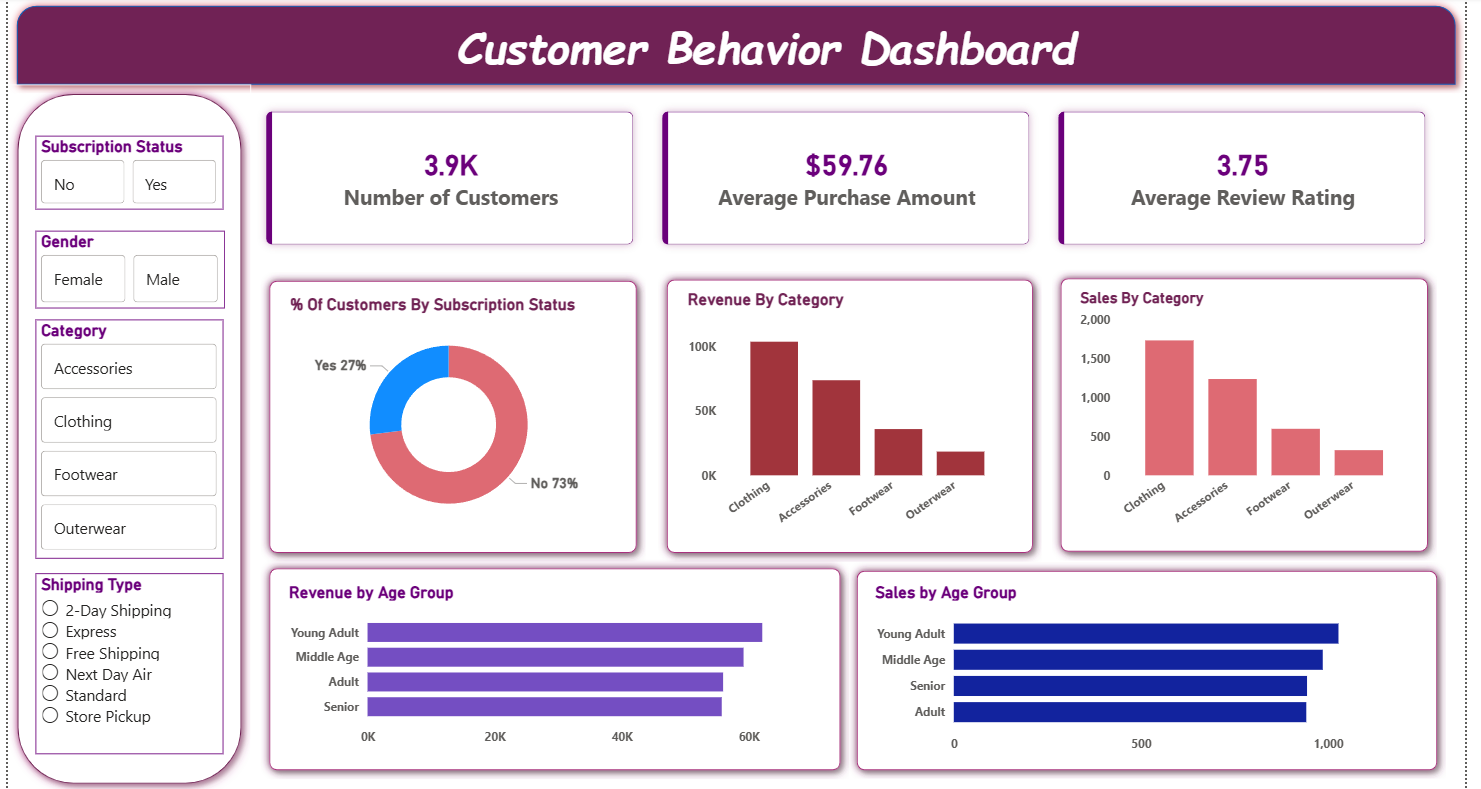

The dashboard page shown, as its layout file describes it:
{"tool":"powerbi","page":{"name":"Page 1","canvas":[1500,820],"ordinal":0},"visuals":[{"type":"cardVisual","fields":{"Data":["customer_behavior customer.Number of Customers","customer_behavior customer.Average Purchase Amount","customer_behavior customer.Average Review Rating"]},"box":[238.5,89.9,1252.3,193.5],"z":0},{"type":"shape","box":[0,0,1500.3,99.5],"z":1000},{"type":"textbox","title":"Customer Behavior Dashboard","box":[140.4,20.4,1280.9,60],"z":2000},{"type":"shape","box":[260.3,283.4,396.5,298.4],"z":3000},{"type":"donutChart","title":"% Of Customers By Subscription Status","fields":{"Category":["customer_behavior customer.subscription_status"],"Y":["CountNonNull(customer_behavior customer.customer_id)"]},"box":[286.2,306.6,336.6,249.4],"z":4000},{"type":"shape","box":[669.1,282.1,395.2,299.8],"z":5000},{"type":"shape","box":[1075.1,280.7,396.5,299.8],"z":6000},{"type":"clusteredColumnChart","title":"Revenue By Category","fields":{"Category":["customer_behavior customer.category"],"Y":["Sum(customer_behavior customer.purchase_amount)"]},"box":[695,301.1,343.4,261.6],"z":7000},{"type":"clusteredColumnChart","title":"Sales By Category","fields":{"Category":["customer_behavior customer.category"],"Y":["CountNonNull(customer_behavior customer.purchase_amount)"]},"box":[1099.7,301.1,350.2,261.6],"z":8000},{"type":"shape","box":[0,89.9,250.7,730.4],"z":9000},{"type":"advancedSlicerVisual","fields":{"Values":["customer_behavior customer.subscription_status"]},"box":[28.6,143.1,193.5,76.3],"z":10000},{"type":"advancedSlicerVisual","fields":{"Values":["customer_behavior customer.gender"]},"box":[28.6,241.2,194.9,80.4],"z":11000},{"type":"advancedSlicerVisual","fields":{"Values":["customer_behavior customer.category"]},"box":[28.6,332.5,193.5,246.6],"z":12000},{"type":"listSlicer","fields":{"Values":["customer_behavior customer.shipping_type"]},"box":[28.6,594.1,193.5,186.7],"z":12001},{"type":"shape","box":[260.3,579.1,606.4,226.2],"z":12003},{"type":"shape","box":[865.3,581.9,615.9,223.5],"z":12004},{"type":"clusteredBarChart","title":"Sales by Age Group","fields":{"Category":["customer_behavior customer.age_group"],"Y":["CountNonNull(customer_behavior customer.customer_id)"]},"box":[888.4,602.3,569.6,185.3],"z":12005},{"type":"clusteredBarChart","title":"Revenue by Age Group","fields":{"Category":["customer_behavior customer.age_group"],"Y":["Sum(customer_behavior customer.purchase_amount)"]},"box":[284.8,602.3,560,178.5],"z":12006}]}

Visuals, with their boxes in screenshot pixels (x1, y1, x2, y2), scaled from the page's 1500x820 canvas onto the 1481x789 screenshot:
cardVisual - customer_behavior customer.Number of Customers x customer_behavior customer.Average Purchase Amount: detection(235, 87, 1472, 273)
shape: detection(0, 0, 1480, 96)
"Customer Behavior Dashboard" textbox: detection(139, 20, 1403, 77)
shape: detection(257, 273, 648, 560)
"% Of Customers By Subscription Status" donutChart: detection(283, 295, 615, 535)
shape: detection(661, 271, 1051, 560)
shape: detection(1061, 270, 1453, 559)
"Revenue By Category" clusteredColumnChart: detection(686, 290, 1025, 541)
"Sales By Category" clusteredColumnChart: detection(1086, 290, 1432, 541)
shape: detection(0, 87, 248, 788)
advancedSlicerVisual - customer_behavior customer.subscription_status: detection(28, 138, 219, 211)
advancedSlicerVisual - customer_behavior customer.gender: detection(28, 232, 221, 309)
advancedSlicerVisual - customer_behavior customer.category: detection(28, 320, 219, 557)
listSlicer - customer_behavior customer.shipping_type: detection(28, 572, 219, 751)
shape: detection(257, 557, 856, 775)
shape: detection(854, 560, 1462, 775)
"Sales by Age Group" clusteredBarChart: detection(877, 580, 1440, 758)
"Revenue by Age Group" clusteredBarChart: detection(281, 580, 834, 751)
